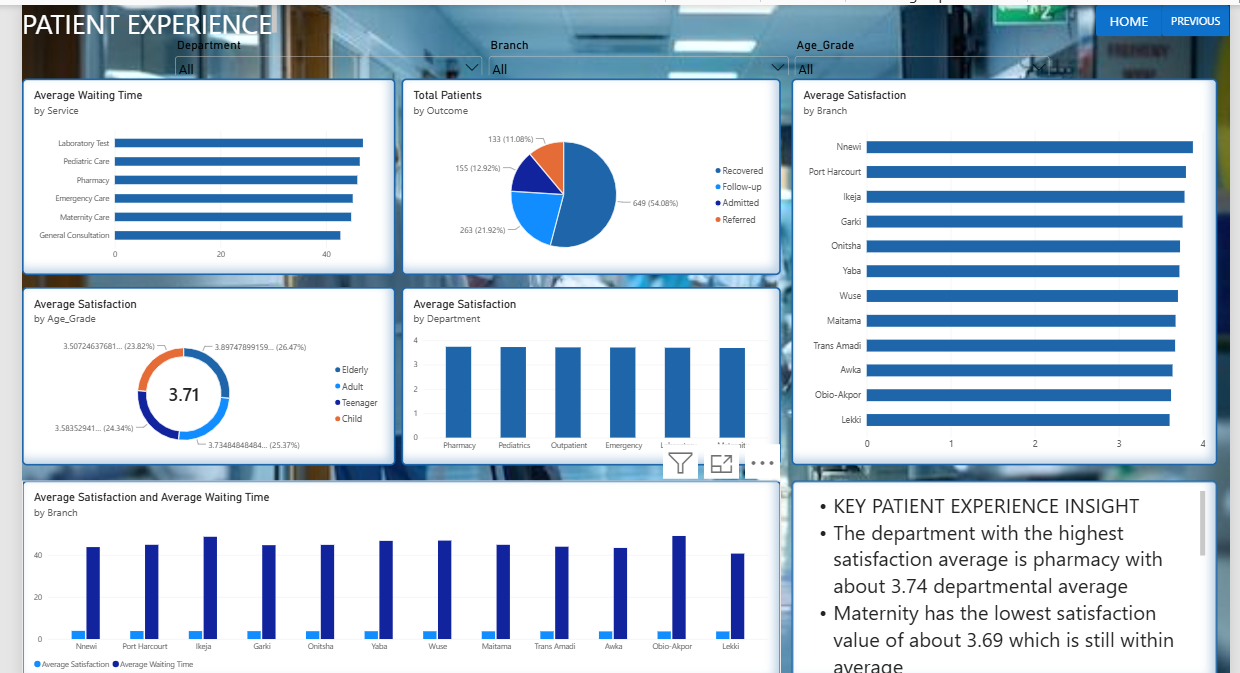

This screenshot's page, from the dashboard's own definition file:
{"tool":"powerbi","page":{"name":"Patient Experience","canvas":[1920,1080],"ordinal":4},"visuals":[{"type":"columnChart","fields":{"Category":["Patient_Visits.Department"],"Y":["Measures_Table.Average Satisfaction"]},"box":[603.6,448.6,603.6,283.9],"z":0},{"type":"donutChart","fields":{"Category":["Patient_Visits.Age_Grade"],"Y":["Measures_Table.Average Satisfaction"]},"box":[0,448.6,594.1,283.9],"z":1},{"type":"clusteredColumnChart","fields":{"Category":["Patient_Visits.Branch"],"Y":["Measures_Table.Average Satisfaction","Measures_Table.Average Waiting Time"]},"box":[0,756.3,1207.3,324.5],"z":2},{"type":"pieChart","fields":{"Category":["Patient_Visits.Outcome"],"Y":["Measures_Table.Total Patients"]},"box":[603.6,116.9,603.6,312.6],"z":3},{"type":"barChart","fields":{"Category":["Patient_Visits.Branch"],"Y":["Measures_Table.Average Satisfaction"]},"box":[1224,116.9,677.6,615.6],"z":4},{"type":"textbox","box":[0,0,405.6,50.1],"z":5},{"type":"barChart","fields":{"Category":["Patient_Visits.Service"],"Y":["Measures_Table.Average Waiting Time"]},"box":[0,116.9,594.1,312.6],"z":6},{"type":"textbox","box":[1224,756.3,677.6,324.5],"z":7},{"type":"slicer","fields":{"Values":["Patient_Visits.Department"]},"box":[238.6,52.5,498.7,59.6],"z":8},{"type":"slicer","fields":{"Values":["Patient_Visits.Branch"]},"box":[737.2,52.5,486.7,59.6],"z":9},{"type":"slicer","fields":{"Values":["Patient_Visits.Age_Grade"]},"box":[1224,52.5,415.1,59.6],"z":10},{"type":"actionButton","box":[1813.3,0,107.4,50.1],"z":12},{"type":"actionButton","box":[1708.3,0,105,50.1],"z":13}]}

Visuals, with their boxes on the page's 1920x1080 design canvas (x1, y1, x2, y2). These are canvas units, not pixel positions in the 1240x673 screenshot, which may show the page scaled, cropped or inside an application window:
columnChart - Patient_Visits.Department x Measures_Table.Average Satisfaction: [left=604, top=449, right=1207, bottom=732]
donutChart - Patient_Visits.Age_Grade x Measures_Table.Average Satisfaction: [left=0, top=449, right=594, bottom=732]
clusteredColumnChart - Patient_Visits.Branch x Measures_Table.Average Satisfaction: [left=0, top=756, right=1207, bottom=1081]
pieChart - Patient_Visits.Outcome x Measures_Table.Total Patients: [left=604, top=117, right=1207, bottom=430]
barChart - Patient_Visits.Branch x Measures_Table.Average Satisfaction: [left=1224, top=117, right=1902, bottom=732]
textbox: [left=0, top=0, right=406, bottom=50]
barChart - Patient_Visits.Service x Measures_Table.Average Waiting Time: [left=0, top=117, right=594, bottom=430]
textbox: [left=1224, top=756, right=1902, bottom=1081]
slicer - Patient_Visits.Department: [left=239, top=52, right=737, bottom=112]
slicer - Patient_Visits.Branch: [left=737, top=52, right=1224, bottom=112]
slicer - Patient_Visits.Age_Grade: [left=1224, top=52, right=1639, bottom=112]
actionButton: [left=1813, top=0, right=1921, bottom=50]
actionButton: [left=1708, top=0, right=1813, bottom=50]
